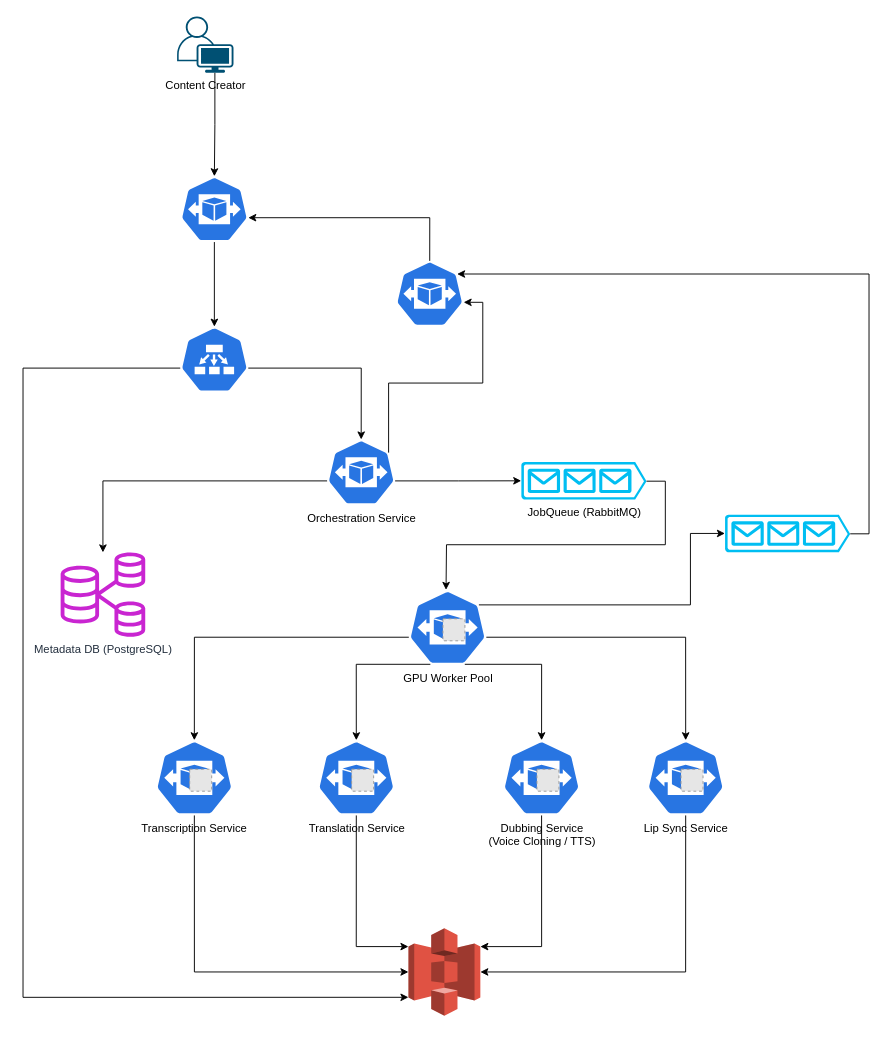
Some shapes in this 893 by 1051 pixel diagram are drawn without their labels. Grey dashed boxes stand in for pictures. The shapes that lost their labels are listed below. From the top down, each one's centre as x and y in pixels, then its label:
At (214,208): "Web Application".
At (429,293): "Notification Service".
At (214,359): "API Gateway".
At (787,533): "DLQ".
At (443,971): "Object Store (S3)".
